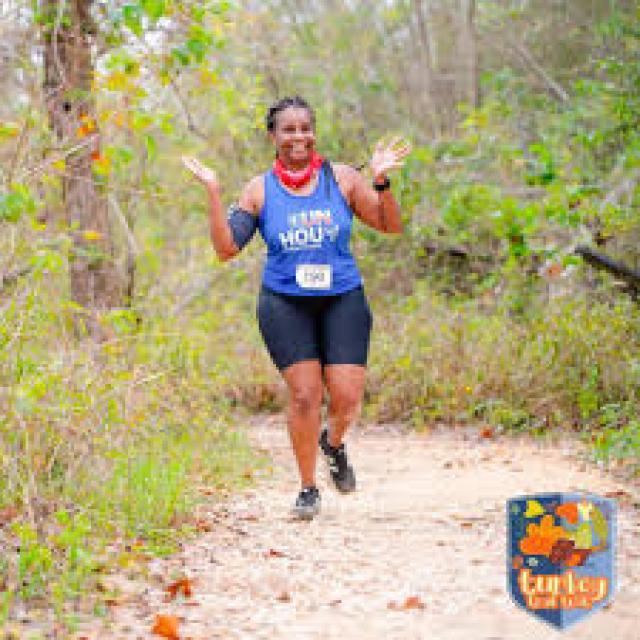running: (180, 96, 410, 524)
